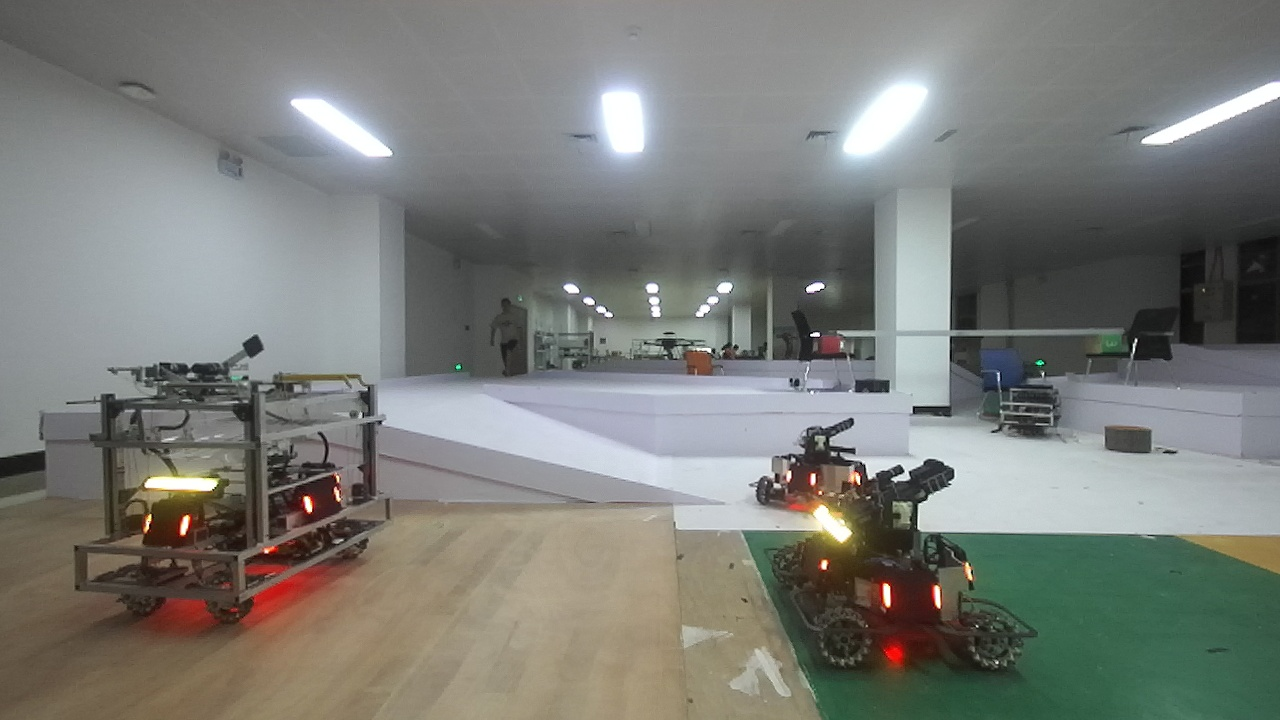car: (77, 326, 373, 622), (773, 449, 1001, 677), (743, 403, 864, 524)
